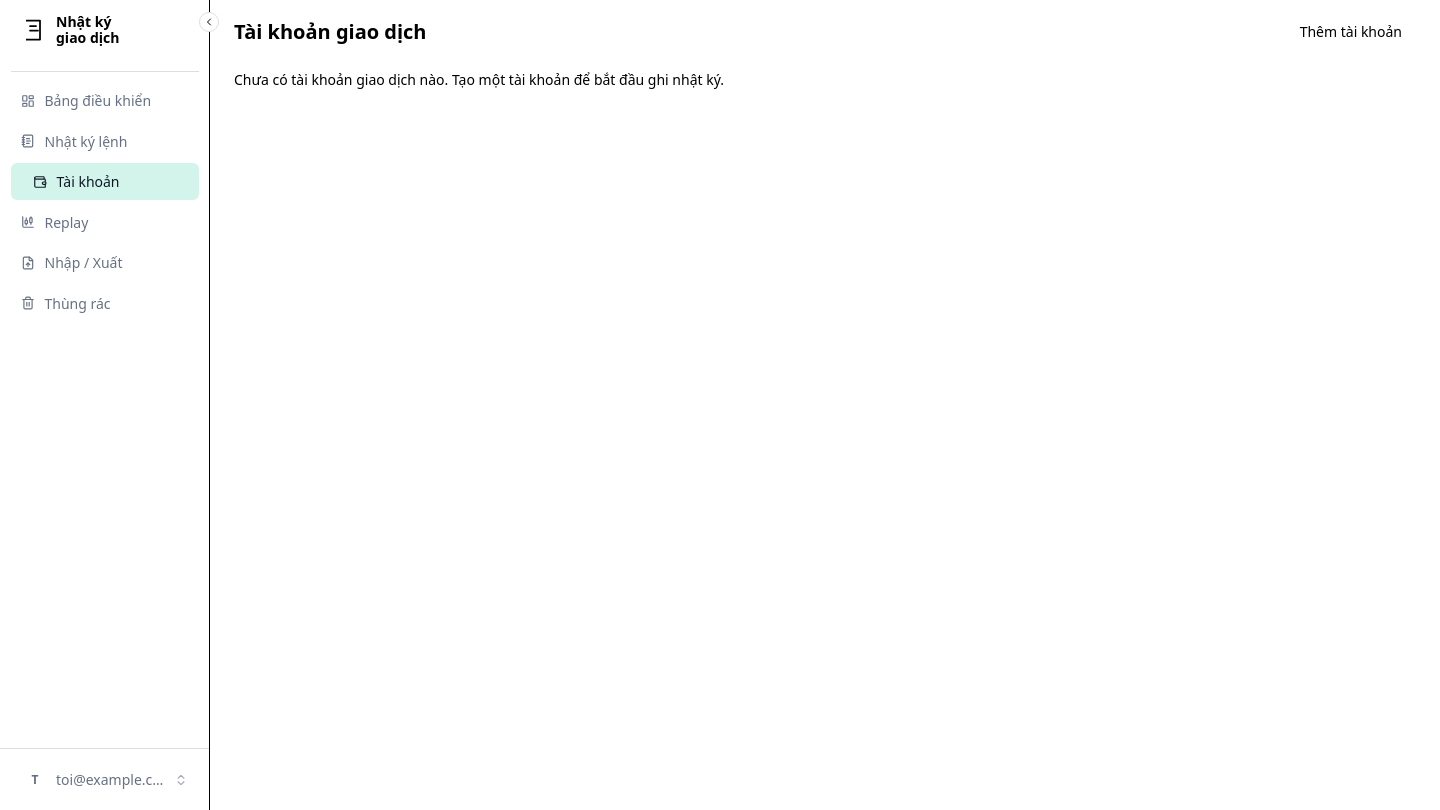
Test: đăng xuất được kể cả khi máy chủ trả 500
Check: the text "toi@example.com" is shown, box [56,770,167,790]
Click the button with aria-label "Mở tuỳ chọn người dùng".
click(104, 780)  # box [10,760,198,800]
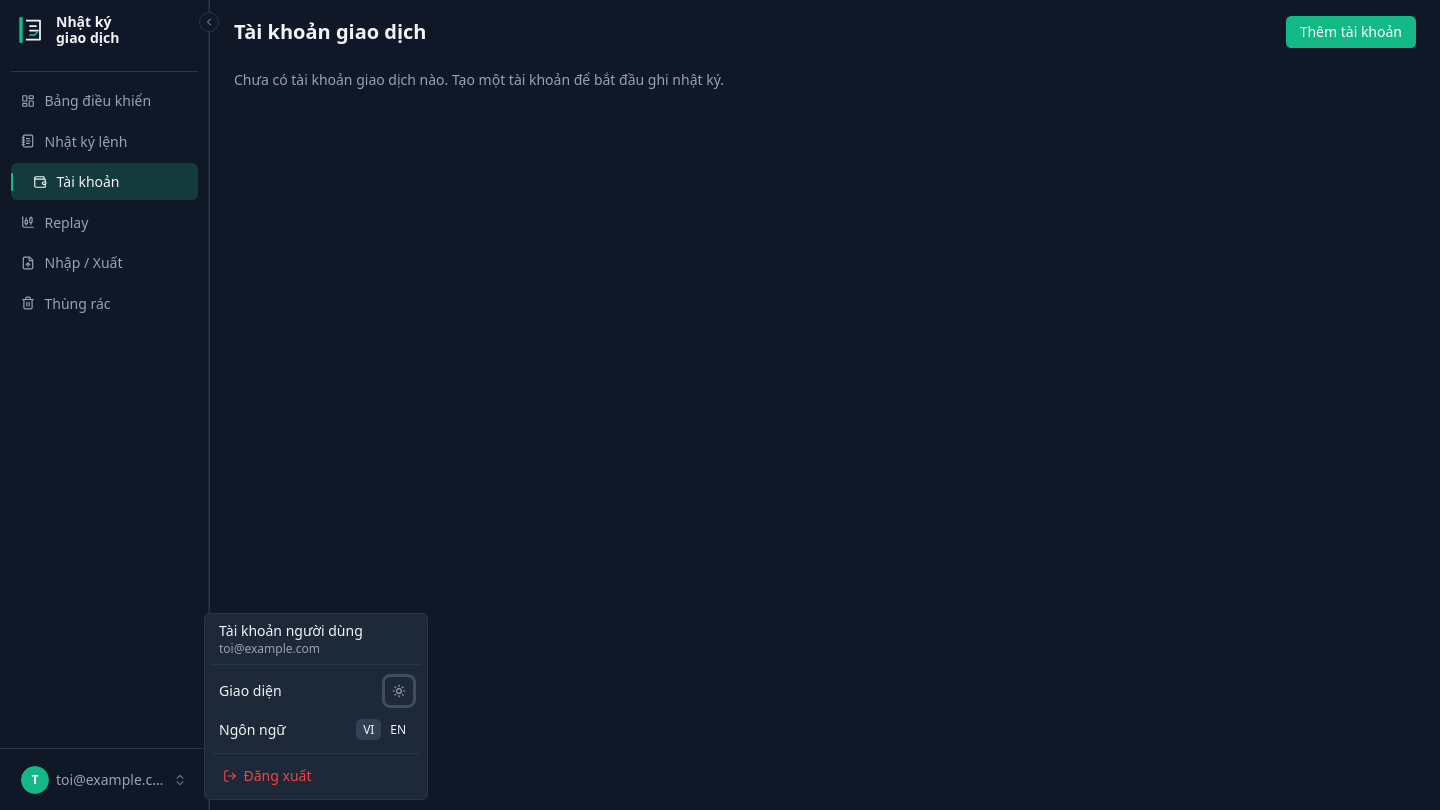
Click the button "Đăng xuất".
click(316, 776)  # box [212,760,420,792]
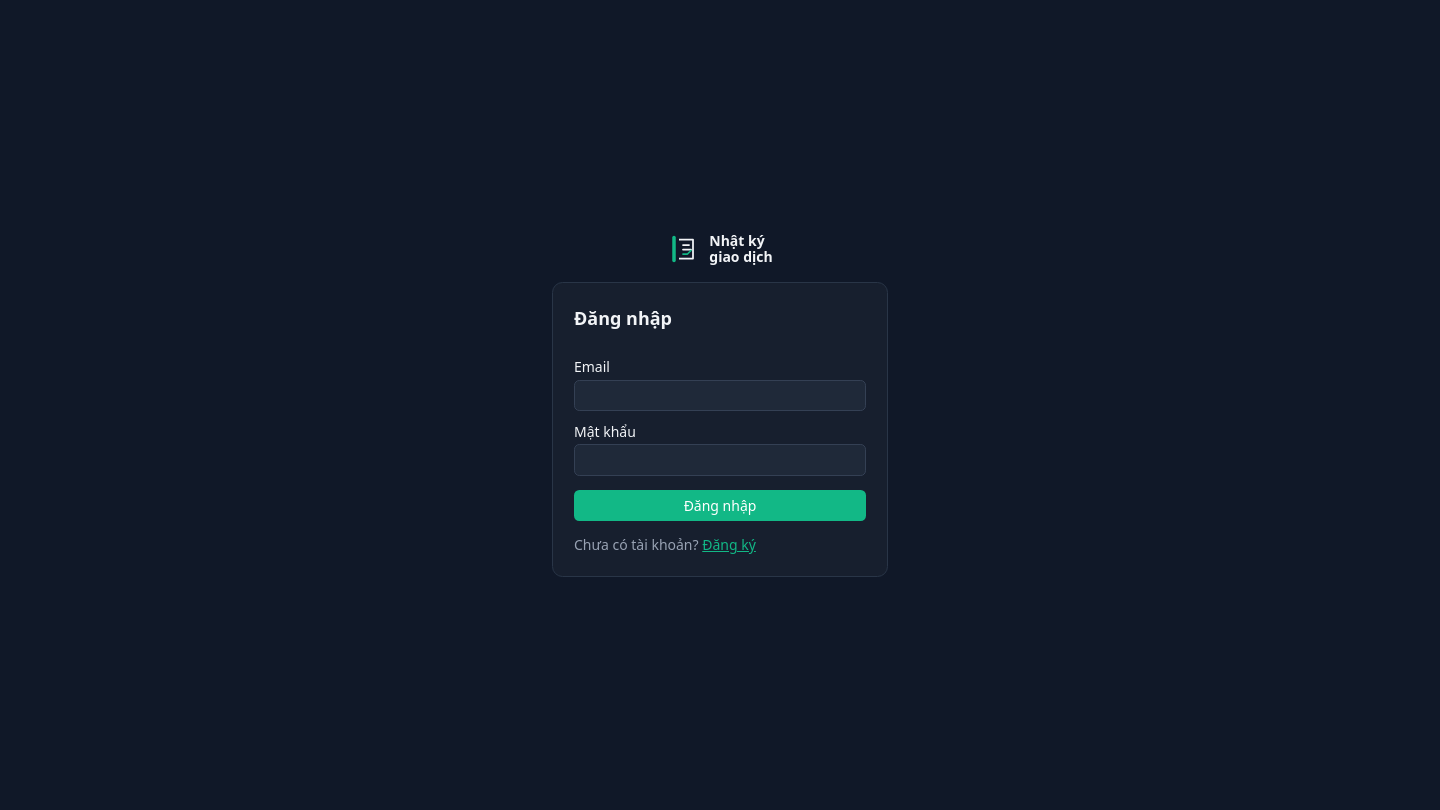
Check: the heading "Đăng nhập" is shown, box [574,306,672,330]
